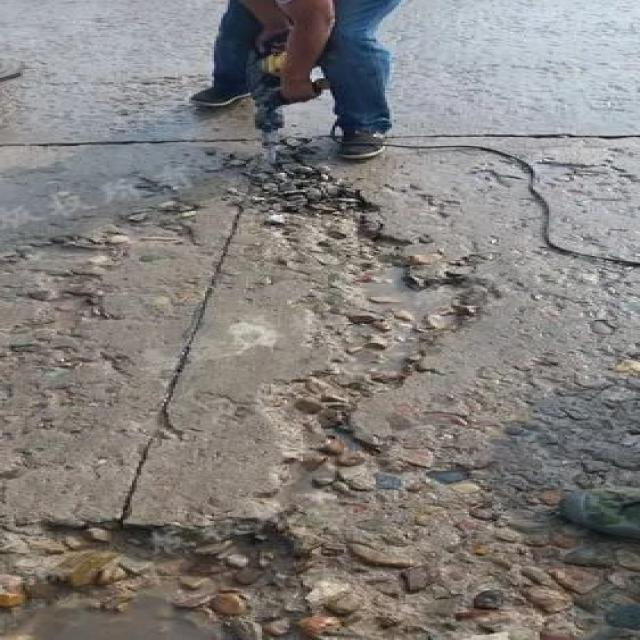Pothole: (244, 145, 485, 517), (25, 513, 328, 639)
